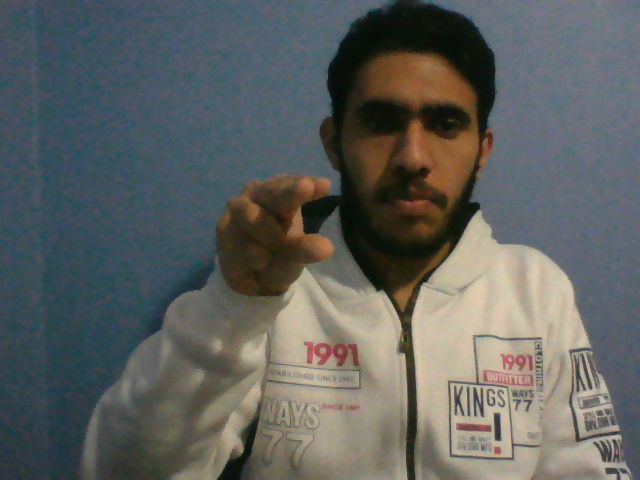no: (209, 168, 337, 311)
